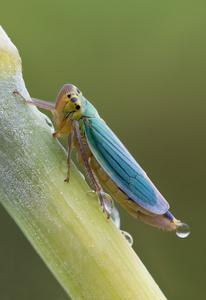Cicadellidae: (49, 84, 180, 230)
